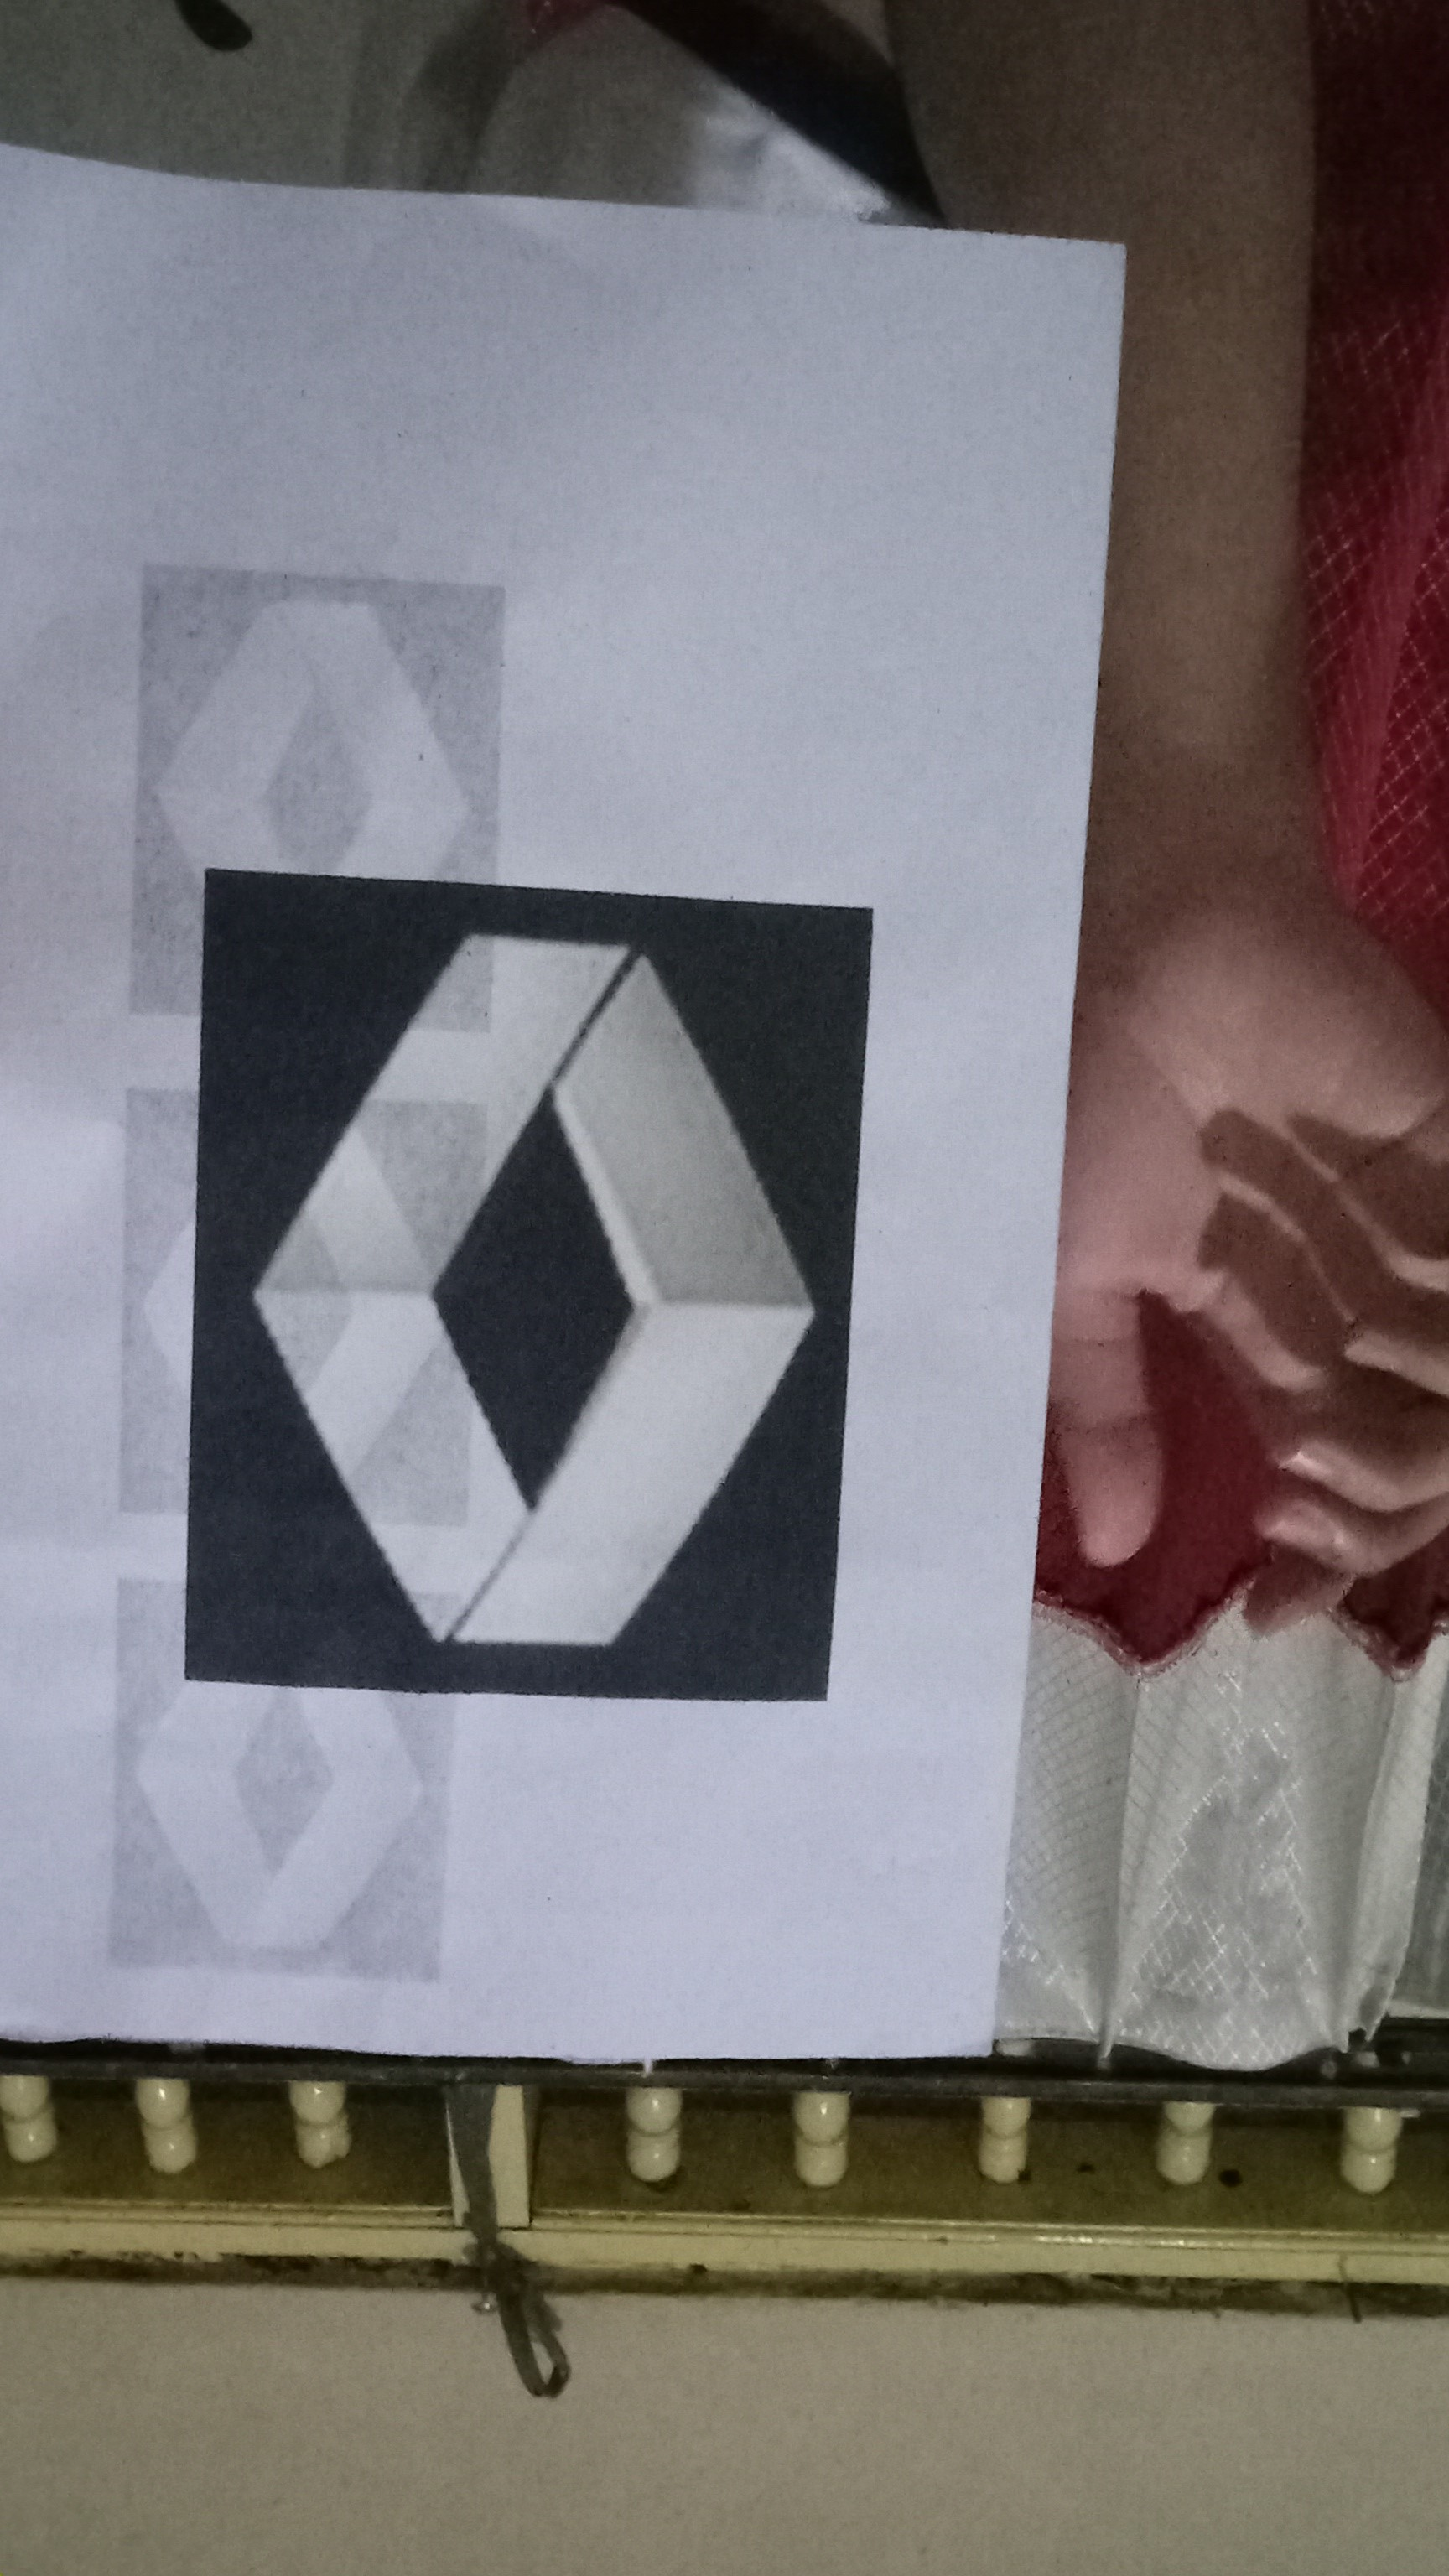Renault: (214, 879, 819, 1675)
